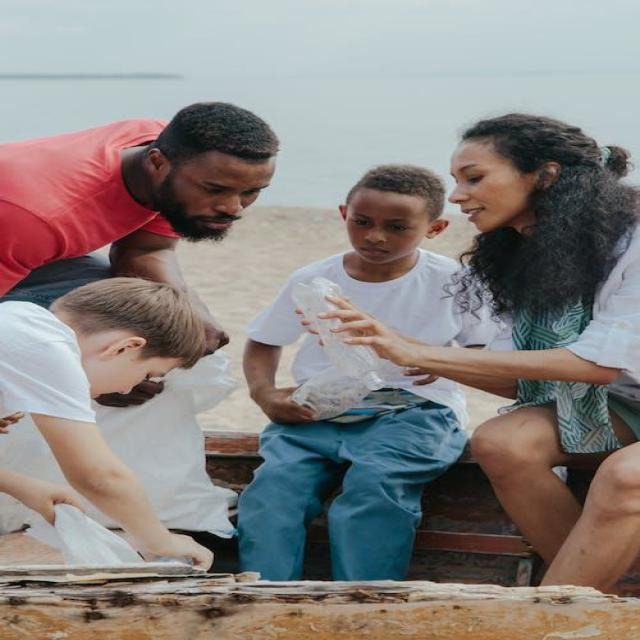plastic: (274, 273, 397, 398)
